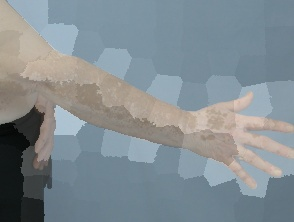vitiligo: (149, 61, 294, 203)
